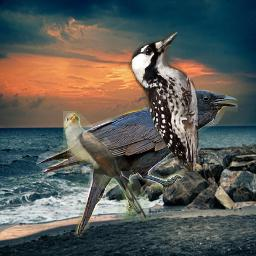Crow: (36, 90, 238, 237)
Cuckoo: (63, 111, 149, 222)
Woodpecker: (128, 30, 199, 171)
